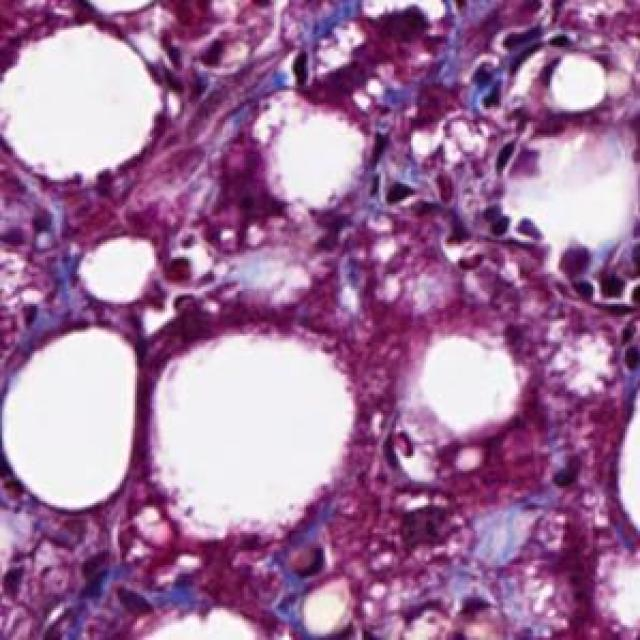inflammation: (362, 171, 544, 253), (340, 0, 467, 60), (556, 241, 640, 323)
